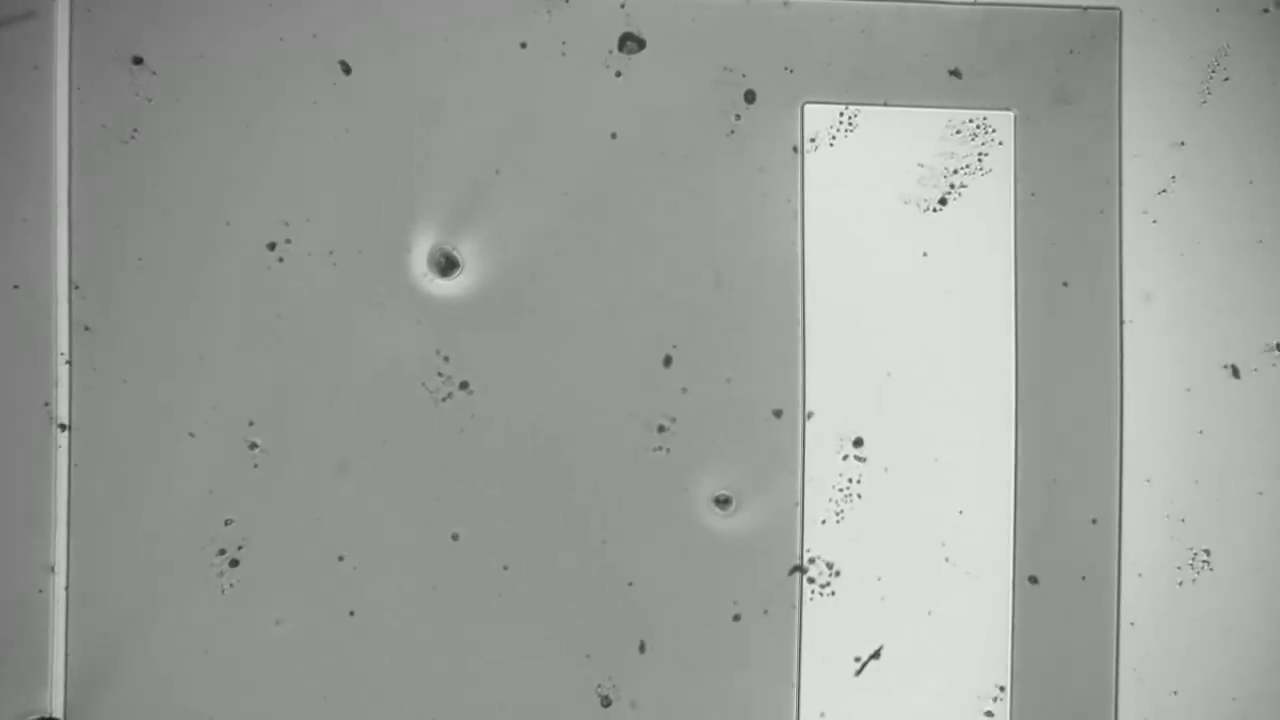stains_enbedded: (49, 417, 77, 437)
